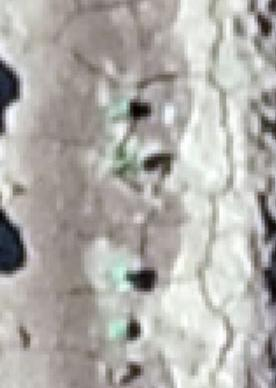cotton: (110, 99, 129, 118), (108, 322, 127, 339), (115, 269, 129, 290)
